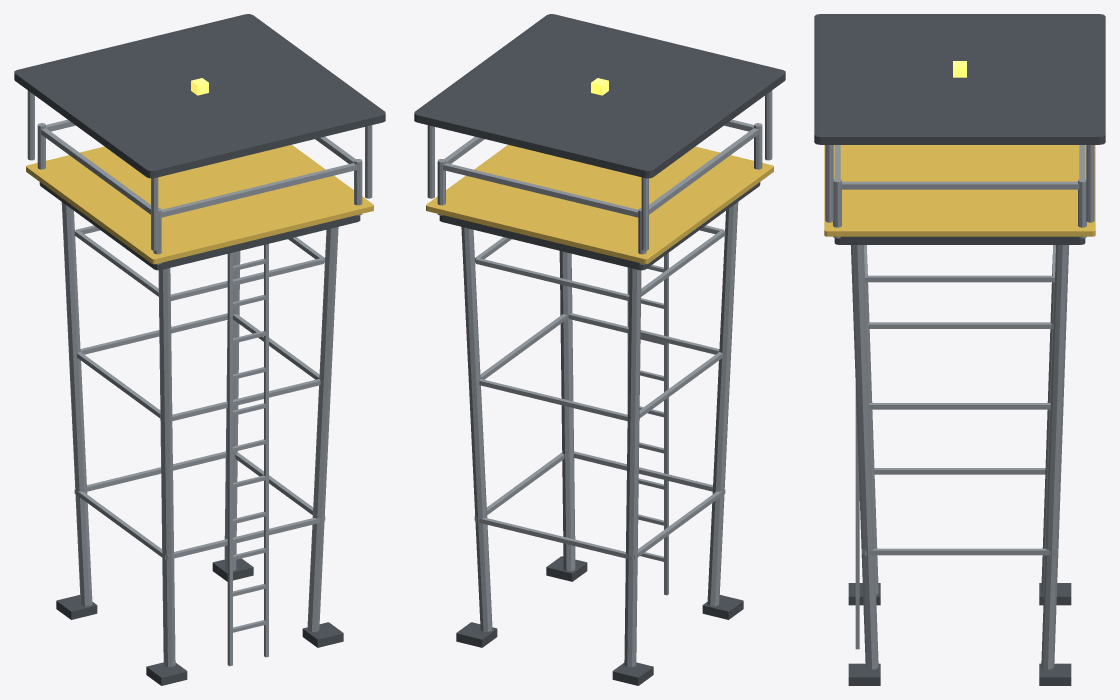
The model's file is watchtower.glb.
3 views of the same model, side by side, from view 1: azimuth 30°, elevation 25°; view 2: azimuth 150°, elevation 25°; view 3: azimuth 270°, elevation 25° (orthographic). The views are drawn at different scales.
Visible parts, largest first — view 1: Canopy, DeckEdge, Leg.002, Leg, Leg.001, LadderRail, Deck, LadderRail.001, Leg.003, Rail.001, Rail, Brace.009 (+15 smaller); view 2: Canopy, DeckEdge, Leg.003, Leg.001, Leg, Leg.002, Deck, Rail.003, LadderRail, Rail, Brace.011, Brace.003 (+14 smaller); view 3: Canopy, DeckEdge, Leg.002, Leg.003, Deck, Rail.002, Brace.010, Brace.002, Brace.004, Brace.006, Brace, LadderRail.001 (+8 smaller).
Part boxes in pixels (left/top/right/bottom): Canopy: left=14, top=14, right=385, bottom=178; DeckEdge: left=26, top=144, right=373, bottom=264; Leg.002: left=307, top=227, right=338, bottom=631; Leg: left=158, top=268, right=175, bottom=667; Leg.001: left=61, top=202, right=92, bottom=606; LadderRail: left=227, top=252, right=232, bottom=666; Deck: left=39, top=182, right=360, bottom=270; LadderRail.001: left=264, top=244, right=268, bottom=657; Leg.003: left=224, top=251, right=240, bottom=570; Rail.001: left=161, top=163, right=356, bottom=217; Rail: left=41, top=128, right=150, bottom=214; Brace.009: left=170, top=258, right=324, bottom=300; Canopy: left=414, top=14, right=785, bottom=178; DeckEdge: left=426, top=144, right=773, bottom=264; Leg.003: left=461, top=227, right=492, bottom=631; Leg.001: left=624, top=268, right=641, bottom=667; Leg: left=707, top=202, right=738, bottom=606; Leg.002: left=559, top=251, right=575, bottom=571; Deck: left=439, top=182, right=760, bottom=270; Rail.003: left=443, top=163, right=638, bottom=217; LadderRail: left=664, top=253, right=668, bottom=595; Rail: left=649, top=128, right=758, bottom=214; Brace.011: left=475, top=258, right=629, bottom=300; Brace.003: left=475, top=517, right=632, bottom=559; Canopy: left=814, top=14, right=1105, bottom=144; DeckEdge: left=824, top=145, right=1095, bottom=236; Leg.002: left=850, top=245, right=878, bottom=669; Leg.003: left=1041, top=245, right=1069, bottom=669; Deck: left=834, top=236, right=1085, bottom=244; Rail.002: left=840, top=181, right=1079, bottom=189; Brace.010: left=865, top=275, right=1054, bottom=282; Brace.002: left=864, top=548, right=1055, bottom=555; Brace.004: left=867, top=322, right=1052, bottom=328; Brace.006: left=869, top=403, right=1050, bottom=409; Brace: left=874, top=468, right=1045, bottom=474; LadderRail.001: left=855, top=388, right=859, bottom=649.
Size of the model in its own units: 2.9 by 6.32 by 2.9.
